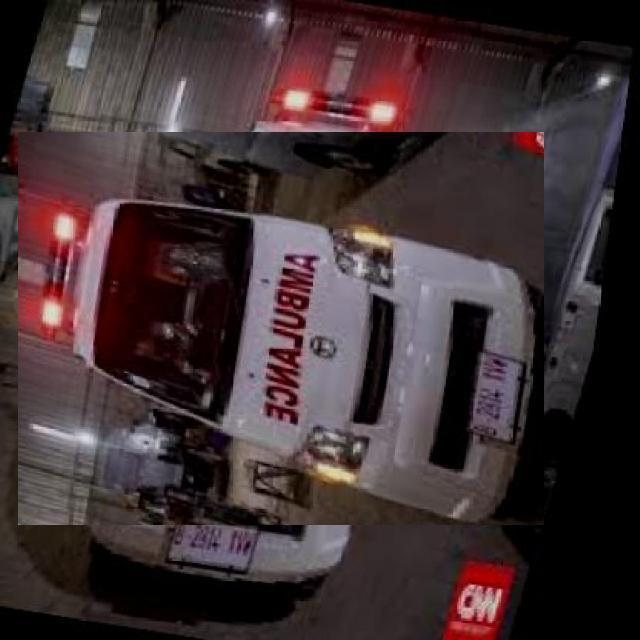emergency-vehicle: (51, 99, 512, 558)
